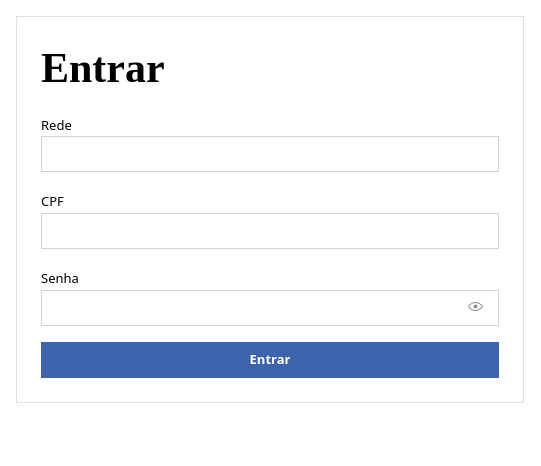
Test case: the comfort validation › an empty form says what is missing without asking the server
Click the button "Entrar".
click(270, 360)  # box [41,342,499,378]
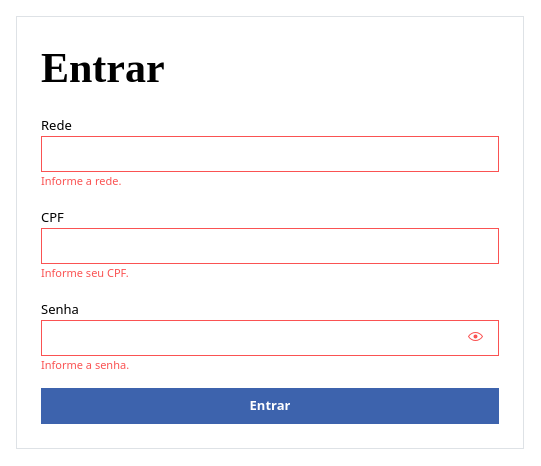
Expected: the text "Informe a rede." is shown, [41,173,121,188]
Expected: the text "Informe seu CPF." is shown, [41,265,129,280]
Expected: the text "Informe a senha." is shown, [41,357,129,372]
